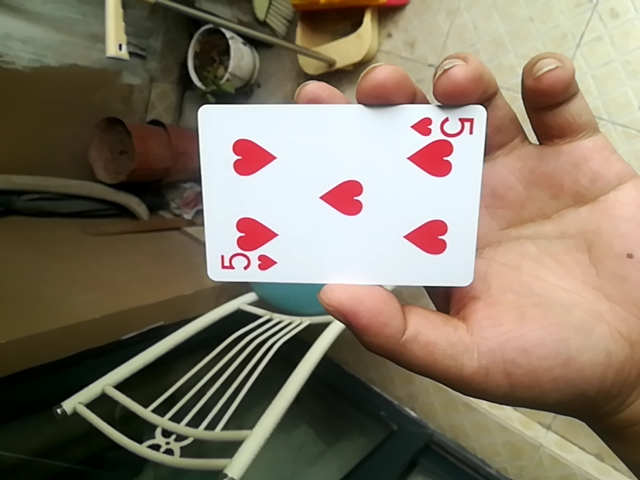hx 5: (193, 102, 482, 285)
